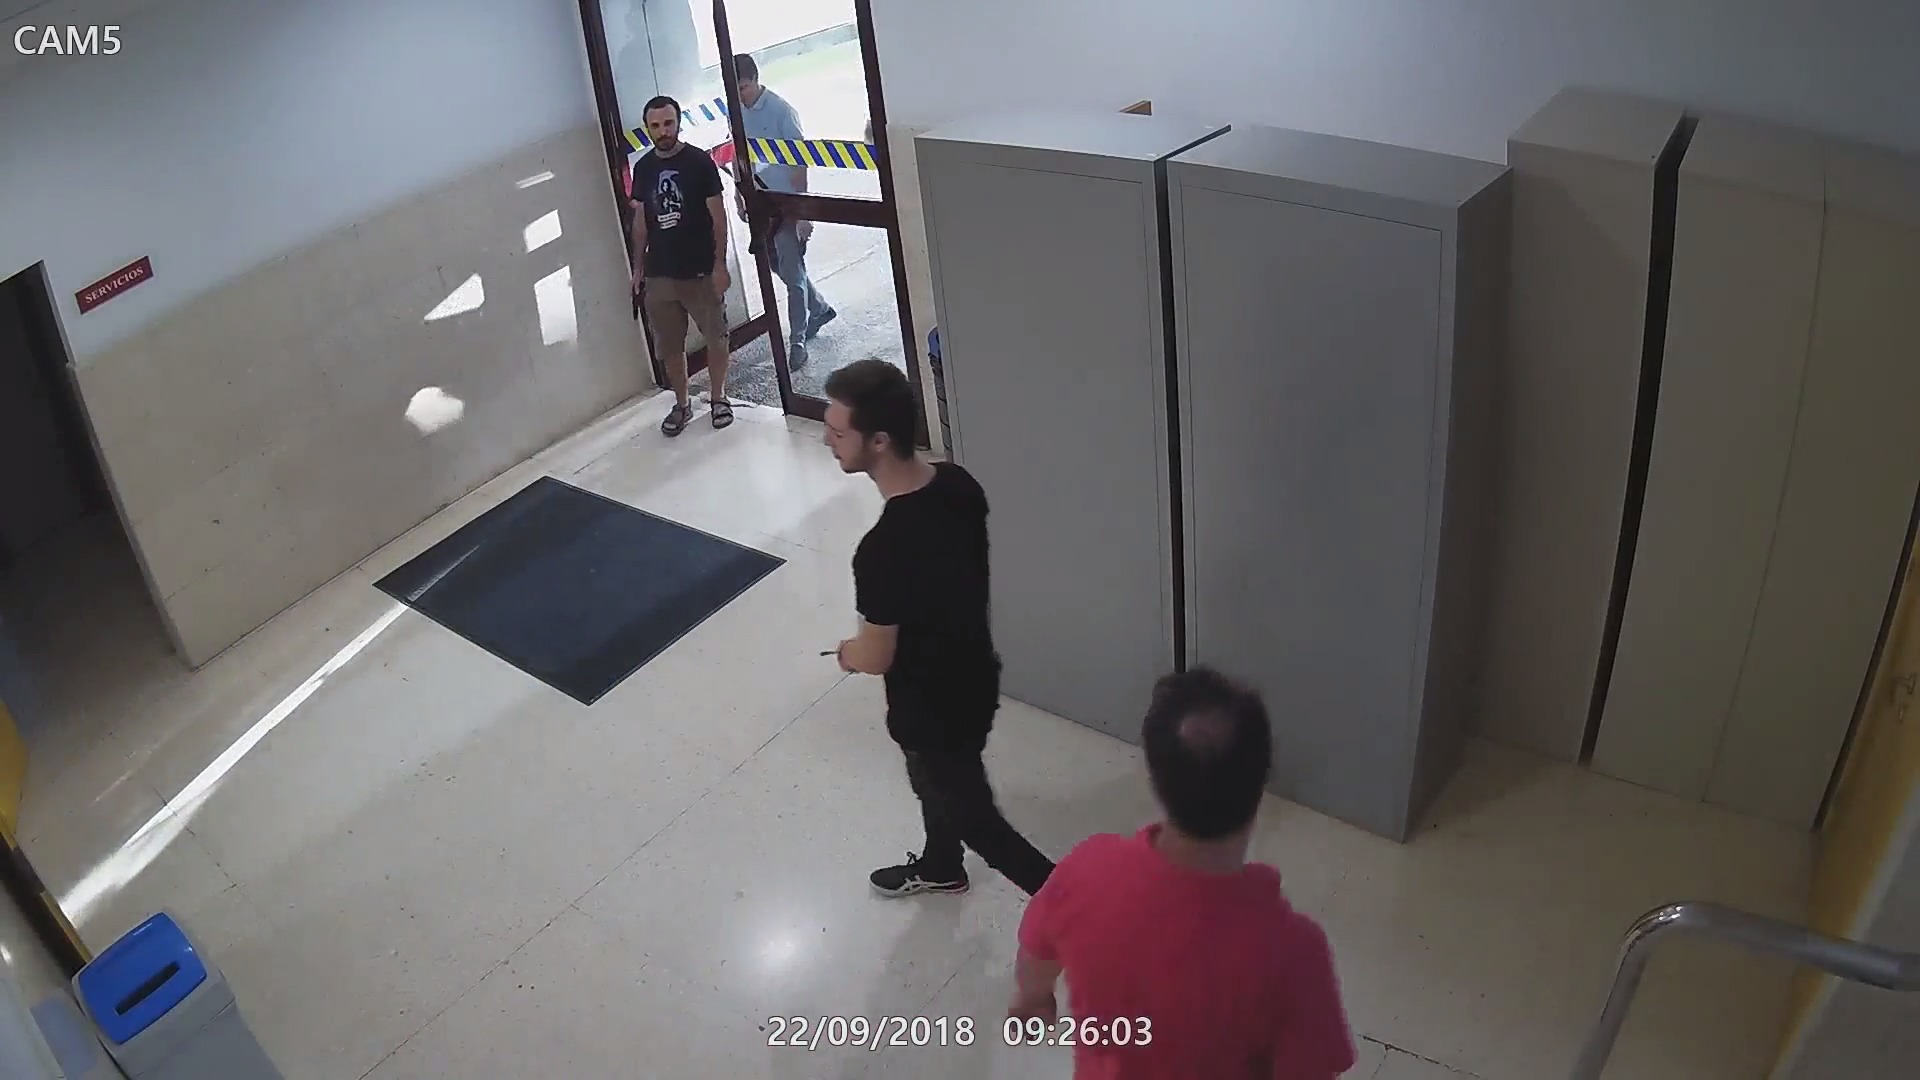Handgun: (622, 273, 649, 322)
